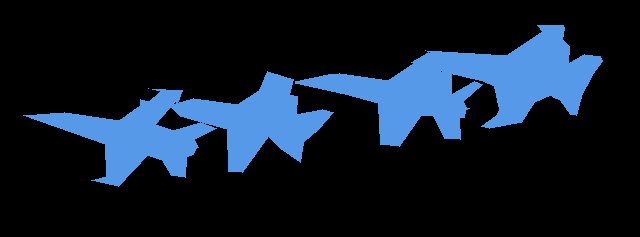Airplane: (23, 88, 217, 187), (425, 25, 603, 129), (295, 52, 482, 146), (169, 71, 333, 173)
